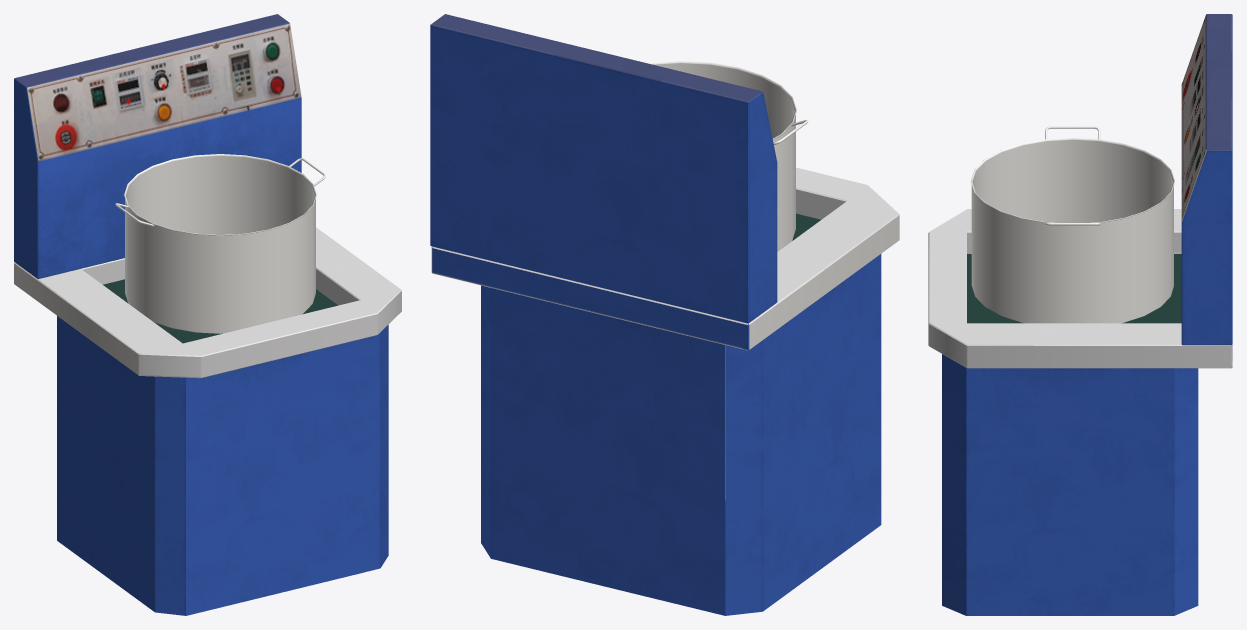
File: cililiuguangji.fbx
3 views of the same model, side by side, from view 1: azimuth 30°, elevation 25°; view 2: azimuth 150°, elevation 25°; view 3: azimuth 270°, elevation 25° (orthographic). The views are drawn at different scales.
Parts seen in each view (by area): view 1: cililiuguangji; view 2: cililiuguangji; view 3: cililiuguangji.
Boxes of the visible parts, bbox=[...] form: cililiuguangji: bbox=[14, 14, 401, 615]; cililiuguangji: bbox=[430, 14, 899, 615]; cililiuguangji: bbox=[928, 14, 1232, 615].
Bounding box in the file's own units: 67.24 × 108 × 63.12.
